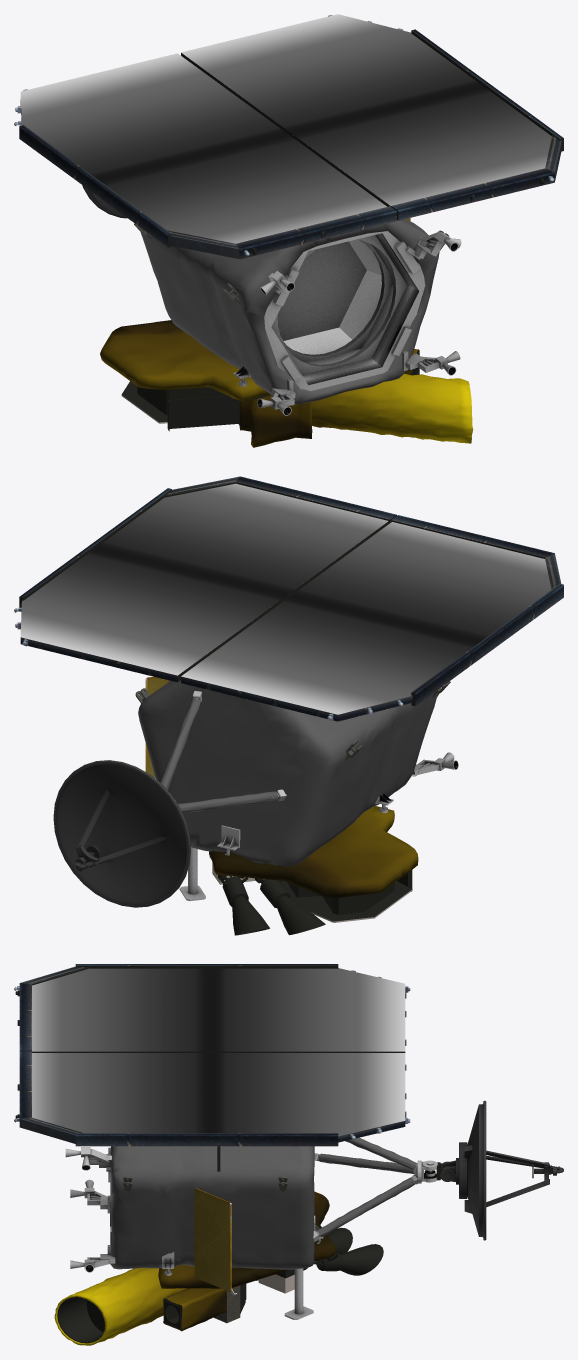
The model's file is EPOXI (without impactor).glb.
3 views of the same model, one above another, from view 1: azimuth 30°, elevation 25°; view 2: azimuth 150°, elevation 25°; view 3: azimuth 270°, elevation 25° (orthographic). The views are drawn at different scales.
Visible parts, largest first — view 1: shiny_panels, hole_AO, foil_gold, black_krinkle, tex_01; view 2: shiny_panels, black_krinkle, tex_01, dish_AO, foil_gold, hole_AO; view 3: shiny_panels, black_krinkle, tex_01, foil_gold, dish_AO, hole_AO.
Boxes of the visible parts, bbox=[...] form: shiny_panels: bbox=[20, 14, 551, 243]; hole_AO: bbox=[233, 231, 461, 415]; foil_gold: bbox=[100, 320, 473, 447]; black_krinkle: bbox=[140, 219, 439, 404]; tex_01: bbox=[14, 15, 563, 431]; shiny_panels: bbox=[20, 483, 551, 714]; black_krinkle: bbox=[138, 680, 438, 866]; tex_01: bbox=[14, 476, 563, 935]; dish_AO: bbox=[53, 760, 190, 907]; foil_gold: bbox=[209, 806, 418, 897]; hole_AO: bbox=[175, 691, 458, 900]; shiny_panels: bbox=[32, 968, 405, 1136]; black_krinkle: bbox=[110, 1137, 415, 1269]; tex_01: bbox=[14, 964, 450, 1343]; foil_gold: bbox=[54, 1191, 335, 1345]; dish_AO: bbox=[440, 1100, 563, 1240]; hole_AO: bbox=[65, 1147, 437, 1319].
Size of the model in its own units: 2.88 by 1.99 by 3.91.
Materials: 7 (5 with a texture image).
